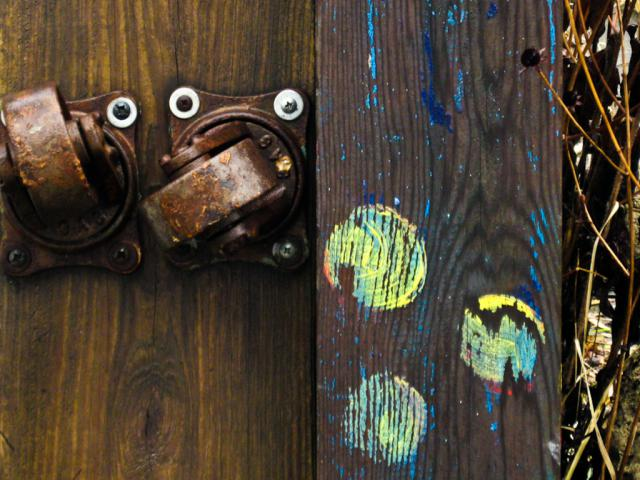Door-handle: (141, 88, 313, 283), (0, 80, 145, 282)
